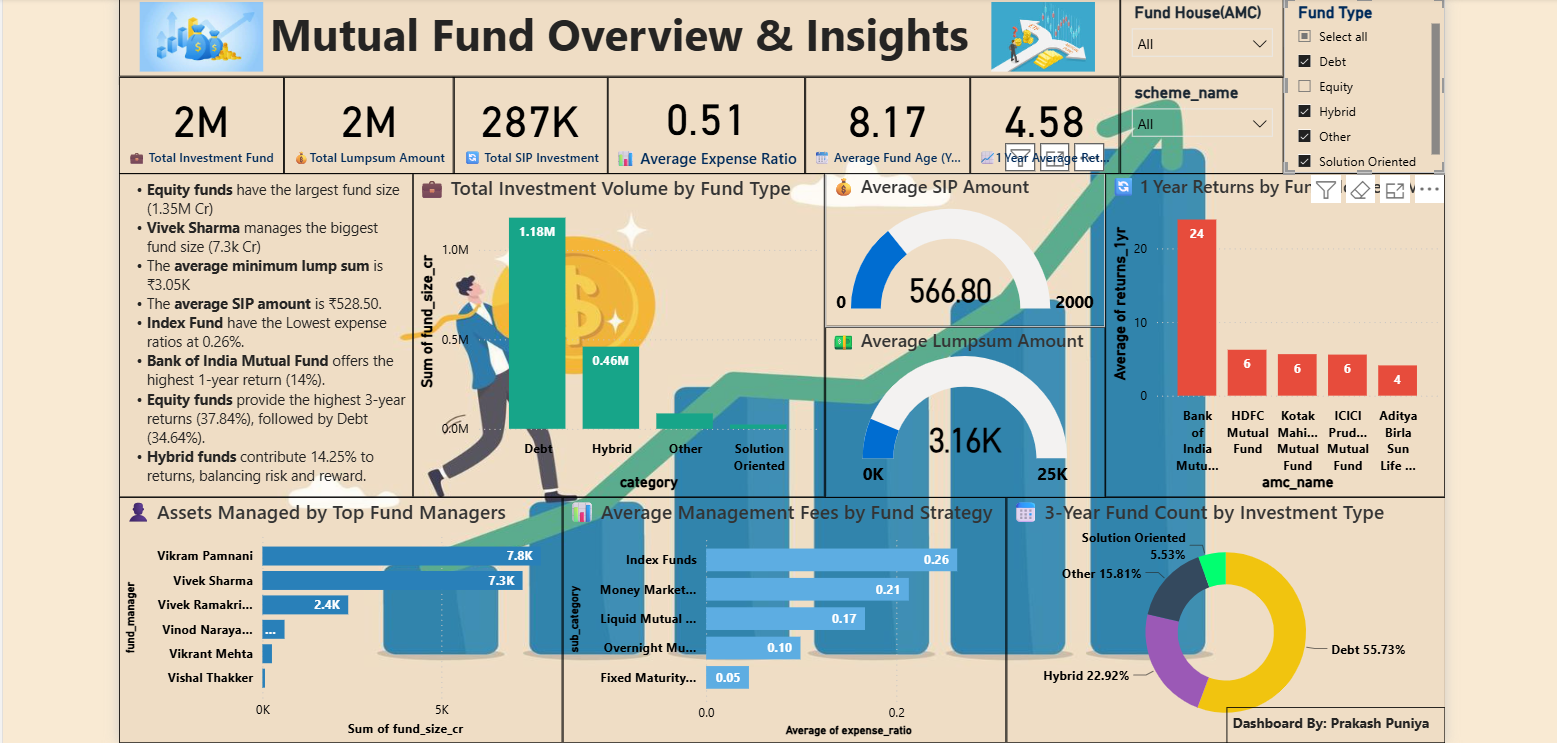

The page's visual inventory and layout, read from the dashboard file:
{"tool":"powerbi","page":{"name":"Page 1","canvas":[1280,720],"ordinal":0},"visuals":[{"type":"donutChart","title":"📅 3-Year Fund Count by Investment Type","fields":{"Category":["Mutual Fund.category"],"Y":["CountNonNull(Mutual Fund.returns_3yr)"]},"box":[856.3,483,424,237.4],"z":0},{"type":"barChart","title":"📊 Average Management Fees by Fund Strategy","fields":{"Category":["Mutual Fund.sub_category"],"Y":["Avg(Mutual Fund.expense_ratio)"]},"box":[428.1,483,428.1,237.4],"z":1000},{"type":"barChart","title":"👤 Assets Managed by Top Fund Managers","fields":{"Category":["Mutual Fund.fund_manager"],"Y":["Sum(Mutual Fund.fund_size_cr)"]},"box":[0,483,428.1,237.4],"z":2000},{"type":"lineStackedColumnComboChart","title":"💼 Total Investment Volume by Fund Type","fields":{"Category":["Mutual Fund.category"],"Y":["Sum(Mutual Fund.fund_size_cr)"]},"box":[284,170.2,397.9,312.9],"z":3000},{"type":"gauge","title":"💵 Average Lumpsum Amount","fields":{"Y":["Avg(Mutual Fund.min_lumpsum)"],"MinValue":["Min(Mutual Fund.min_lumpsum)1"],"MaxValue":["Max(Mutual Fund.min_lumpsum)2"]},"box":[682,318.4,270.3,164.7],"z":4000},{"type":"gauge","title":"💰 Average SIP Amount","fields":{"Y":["Avg(Mutual Fund.min_sip)"],"MinValue":["Min(Mutual Fund.min_sip)1"],"MaxValue":["Max(Mutual Fund.min_sip)2"]},"box":[682,170.2,270.3,148.2],"z":5000},{"type":"columnChart","title":"🔄 1 Year Returns by Fund House (AMC)","fields":{"Category":["Mutual Fund.amc_name"],"Y":["Avg(Mutual Fund.returns_1yr)"]},"box":[952.3,170.2,328,312.9],"z":6000},{"type":"slicer","fields":{"Values":["Mutual Fund.category"]},"box":[1123.8,0,156.4,170.2],"z":7000},{"type":"slicer","fields":{"Values":["Mutual Fund.amc_name"]},"box":[966,0,157.8,76.8],"z":8000},{"type":"slicer","fields":{"Values":["Mutual Fund.scheme_name"]},"box":[966,76.8,157.8,93.3],"z":9000},{"type":"card","fields":{"Values":["Sum(Mutual Fund.fund_size_cr)"]},"box":[0,76.8,159.2,93.3],"z":10000},{"type":"card","fields":{"Values":["Sum(Mutual Fund.min_lumpsum)"]},"box":[159.2,76.8,164.7,93.3],"z":11000},{"type":"card","fields":{"Values":["Sum(Mutual Fund.min_sip)"]},"box":[322.5,76.8,149.6,93.3],"z":12000},{"type":"card","fields":{"Values":["Avg(Mutual Fund.expense_ratio)"]},"box":[472,76.8,190.7,93.3],"z":13000},{"type":"card","fields":{"Values":["Avg(Mutual Fund.fund_age_yr)"]},"box":[662.8,76.8,159.2,93.3],"z":14000},{"type":"card","fields":{"Values":["Avg(Mutual Fund.returns_1yr)"]},"box":[822,76.8,144.1,93.3],"z":15000},{"type":"textbox","box":[0,0,966,76.8],"z":16000},{"type":"textbox","box":[0,170.2,284,312.9],"z":17000},{"type":"image","box":[0,0,159.2,76.8],"z":18000},{"type":"image","box":[817.8,0,148.2,76.8],"z":19000},{"type":"textbox","box":[1069,684.7,211.3,35.7],"z":20000}]}

Visuals, with their boxes on the page's 1280x720 design canvas (x1, y1, x2, y2). These are canvas units, not pixel positions in the 1557x743 screenshot, which may show the page scaled, cropped or inside an application window:
"📅 3-Year Fund Count by Investment Type" donutChart: [856, 483, 1280, 720]
"📊 Average Management Fees by Fund Strategy" barChart: [428, 483, 856, 720]
"👤 Assets Managed by Top Fund Managers" barChart: [0, 483, 428, 720]
"💼 Total Investment Volume by Fund Type" lineStackedColumnComboChart: [284, 170, 682, 483]
"💵 Average Lumpsum Amount" gauge: [682, 318, 952, 483]
"💰 Average SIP Amount" gauge: [682, 170, 952, 318]
"🔄 1 Year Returns by Fund House (AMC)" columnChart: [952, 170, 1280, 483]
slicer - Mutual Fund.category: [1124, 0, 1280, 170]
slicer - Mutual Fund.amc_name: [966, 0, 1124, 77]
slicer - Mutual Fund.scheme_name: [966, 77, 1124, 170]
card - Sum(Mutual Fund.fund_size_cr): [0, 77, 159, 170]
card - Sum(Mutual Fund.min_lumpsum): [159, 77, 324, 170]
card - Sum(Mutual Fund.min_sip): [322, 77, 472, 170]
card - Avg(Mutual Fund.expense_ratio): [472, 77, 663, 170]
card - Avg(Mutual Fund.fund_age_yr): [663, 77, 822, 170]
card - Avg(Mutual Fund.returns_1yr): [822, 77, 966, 170]
textbox: [0, 0, 966, 77]
textbox: [0, 170, 284, 483]
image: [0, 0, 159, 77]
image: [818, 0, 966, 77]
textbox: [1069, 685, 1280, 720]
